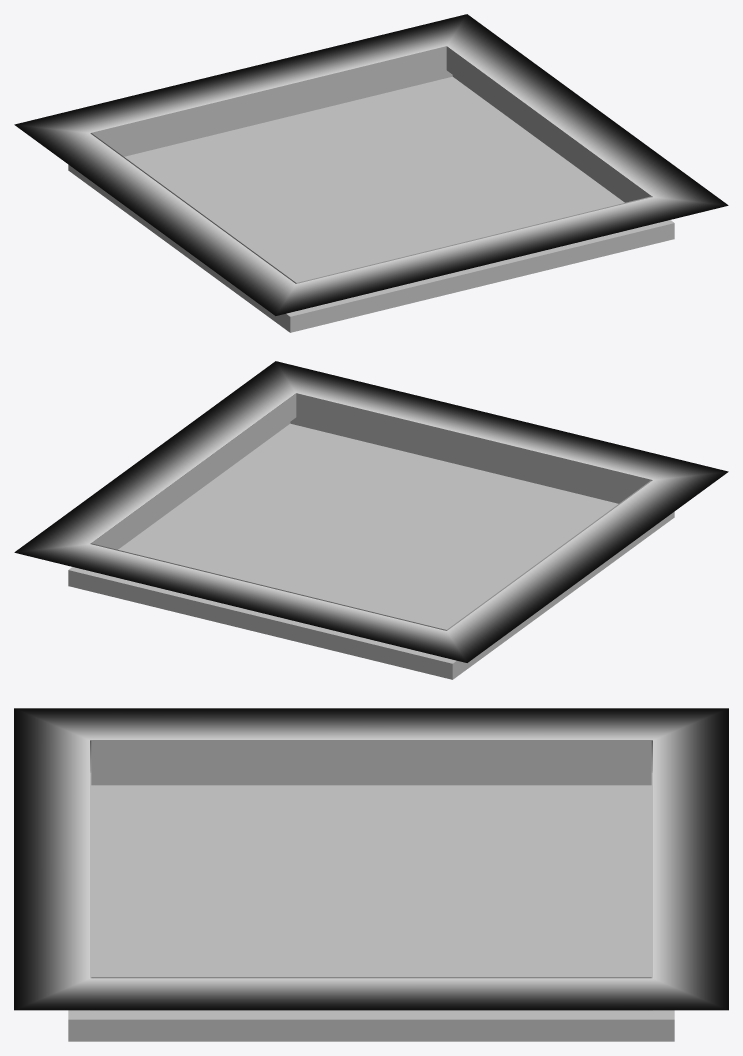
Rendered from CeilingCenter01_4.FBX.
The picture shows the model from 3 angles, top to bottom: view 1: azimuth 30°, elevation 25°; view 2: azimuth 150°, elevation 25°; view 3: azimuth 270°, elevation 25°; orthographic projection. The views are drawn at different scales.
Parts seen in each view (by area): view 1: Ceiling, Backlight; view 2: Ceiling, Backlight; view 3: Ceiling, Backlight.
Part boxes in pixels (x1=…): Ceiling: x1=68, y1=46, x2=674, y2=332; Backlight: x1=14, y1=14, x2=728, y2=315; Ceiling: x1=68, y1=393, x2=674, y2=679; Backlight: x1=14, y1=361, x2=728, y2=662; Ceiling: x1=68, y1=740, x2=674, y2=1041; Backlight: x1=14, y1=708, x2=728, y2=1010.
Size of the model in its own units: 295 by 26.5 by 295.
